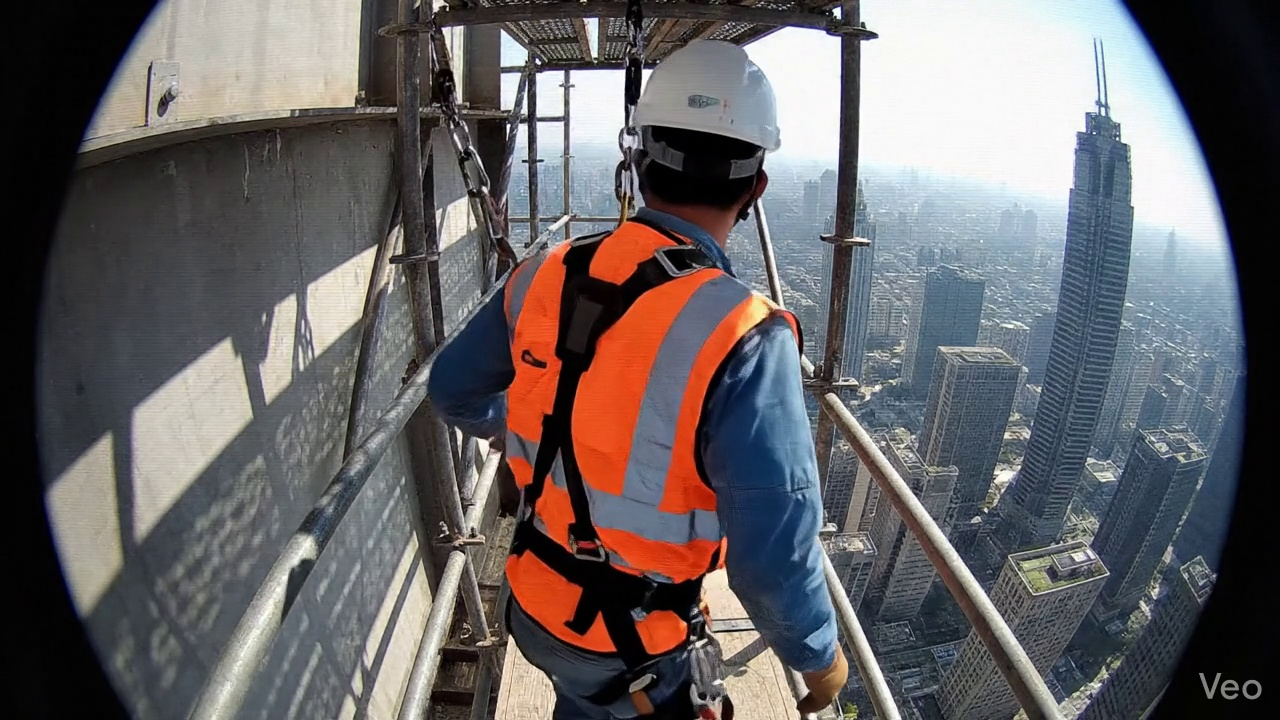person: (429, 40, 847, 719)
